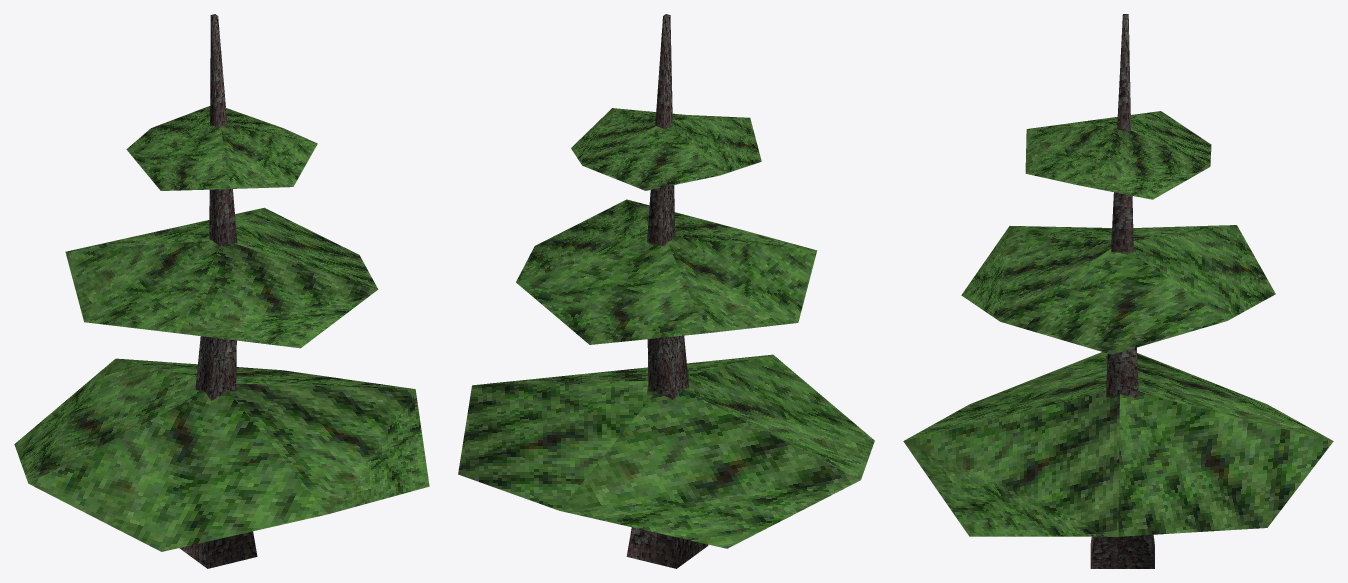
The model's file is pinetree_v1_1.glb.
3 views of the same model, side by side, from view 1: azimuth 30°, elevation 25°; view 2: azimuth 150°, elevation 25°; view 3: azimuth 270°, elevation 25° (orthographic).
Visible parts, largest first — view 1: PineTree.003; view 2: PineTree.003; view 3: PineTree.003.
Boxes of the visible parts, x1,y1,x2,y2 form: PineTree.003: (14,14,429,568); PineTree.003: (458,14,874,568); PineTree.003: (903,14,1333,568).
Size of the model in its own units: 2.58 by 3.4 by 2.45.
Materials: 1 (1 with a texture image).
